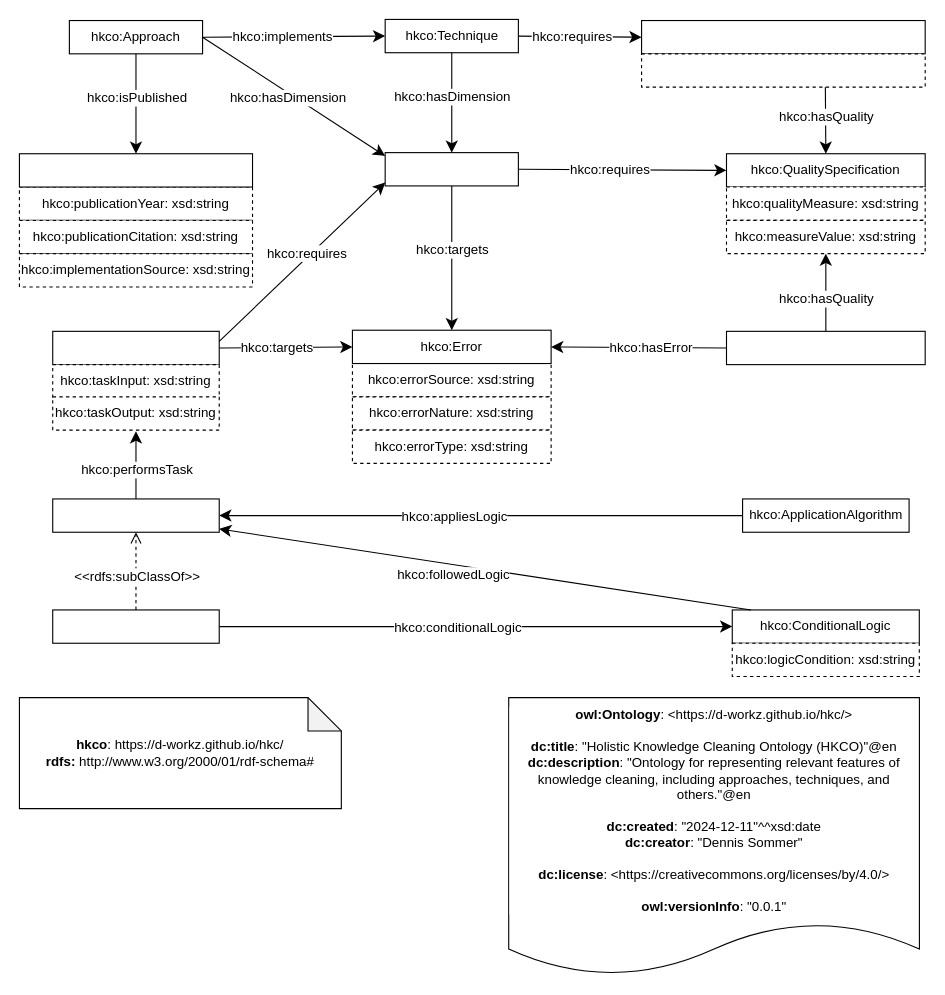
This 945x995 diagram has some shape labels left out. The centre of each missing label's shape, as x and y in pixels:
"hkco:ApplicationCondition" goes at (135,626).
"hkco:ApplicationLogic" goes at (135,515).
"hkco:ApplicationTask" goes at (135,347).
"hkco:BackgroundKnowledge" goes at (782,36).
"hkco:Dimension" goes at (451,169).
"hkco:isKnowledgeGraphFeature: xsd:boolean" goes at (782,70).
"hkco:KnowledgeGraph" goes at (825,347).
"hkco:Publication" goes at (135,170).
